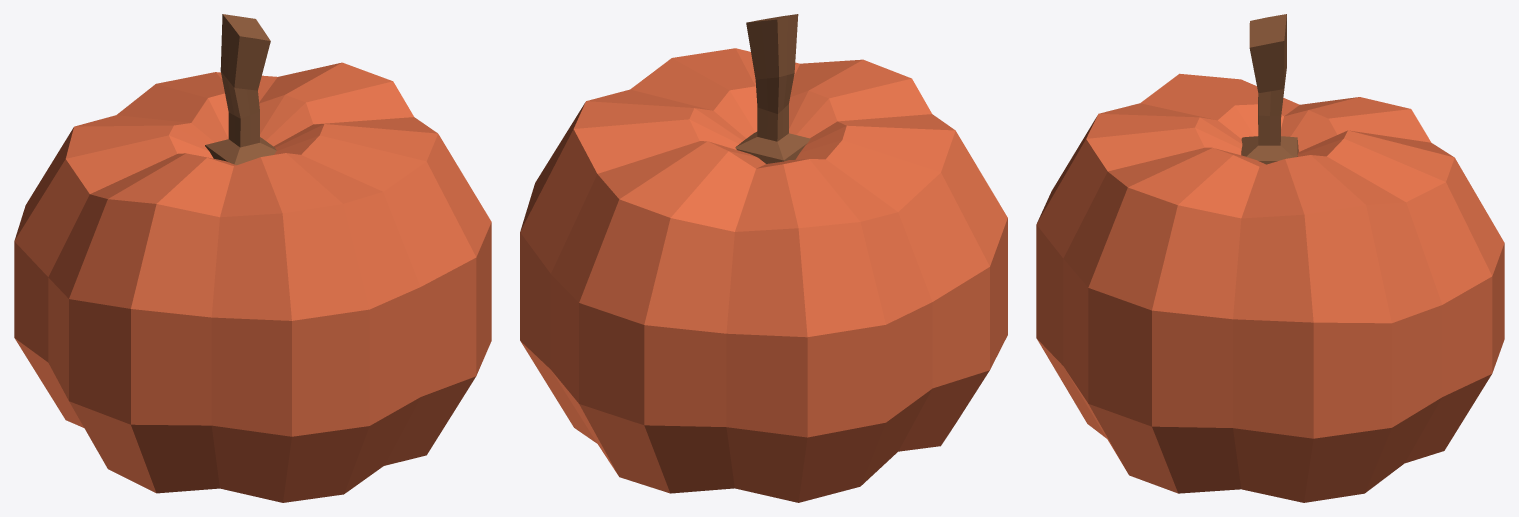
The model's file is pumpkinGlb.glb.
3 views of the same model, side by side, from view 1: azimuth 30°, elevation 25°; view 2: azimuth 150°, elevation 25°; view 3: azimuth 270°, elevation 25° (orthographic). The views are drawn at different scales.
Visible parts, largest first — view 1: Sphere, Cube; view 2: Sphere, Cube; view 3: Sphere, Cube.
Boxes of the visible parts, left/top/right/bottom form: Sphere: left=14, top=62, right=491, bottom=502; Cube: left=205, top=14, right=276, bottom=165; Sphere: left=520, top=48, right=1007, bottom=502; Cube: left=735, top=14, right=810, bottom=163; Sphere: left=1036, top=73, right=1504, bottom=502; Cube: left=1241, top=14, right=1298, bottom=164.
Size of the model in its own units: 0.8343 by 0.8257 by 0.8512.
